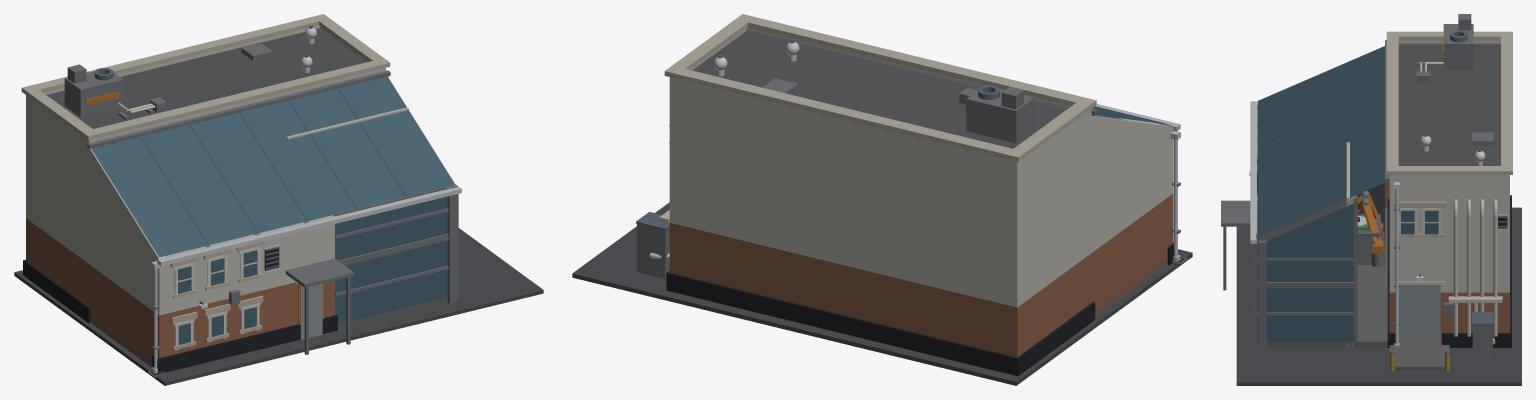
The model's file is high_tech_manufactory_lvl1.glb.
3 views of the same model, side by side, from view 1: azimuth 30°, elevation 25°; view 2: azimuth 150°, elevation 25°; view 3: azimuth 270°, elevation 25° (orthographic). The views are drawn at different scales.
Visible parts, largest first — view 1: high_tech_manufactory, high_tech_manufactory_Glass; view 2: high_tech_manufactory; view 3: high_tech_manufactory, high_tech_manufactory_Glass.
Part boxes in pixels (bbox=[...]): high_tech_manufactory: bbox=[14, 14, 543, 385]; high_tech_manufactory_Glass: bbox=[91, 76, 455, 344]; high_tech_manufactory: bbox=[572, 14, 1192, 385]; high_tech_manufactory: bbox=[1221, 14, 1521, 385]; high_tech_manufactory_Glass: bbox=[1257, 46, 1438, 341].
Size of the model in its own units: 0.9021 by 0.499 by 0.6494.
